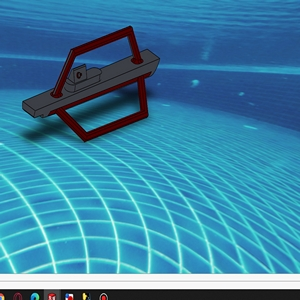submarine: (20, 25, 160, 145)
